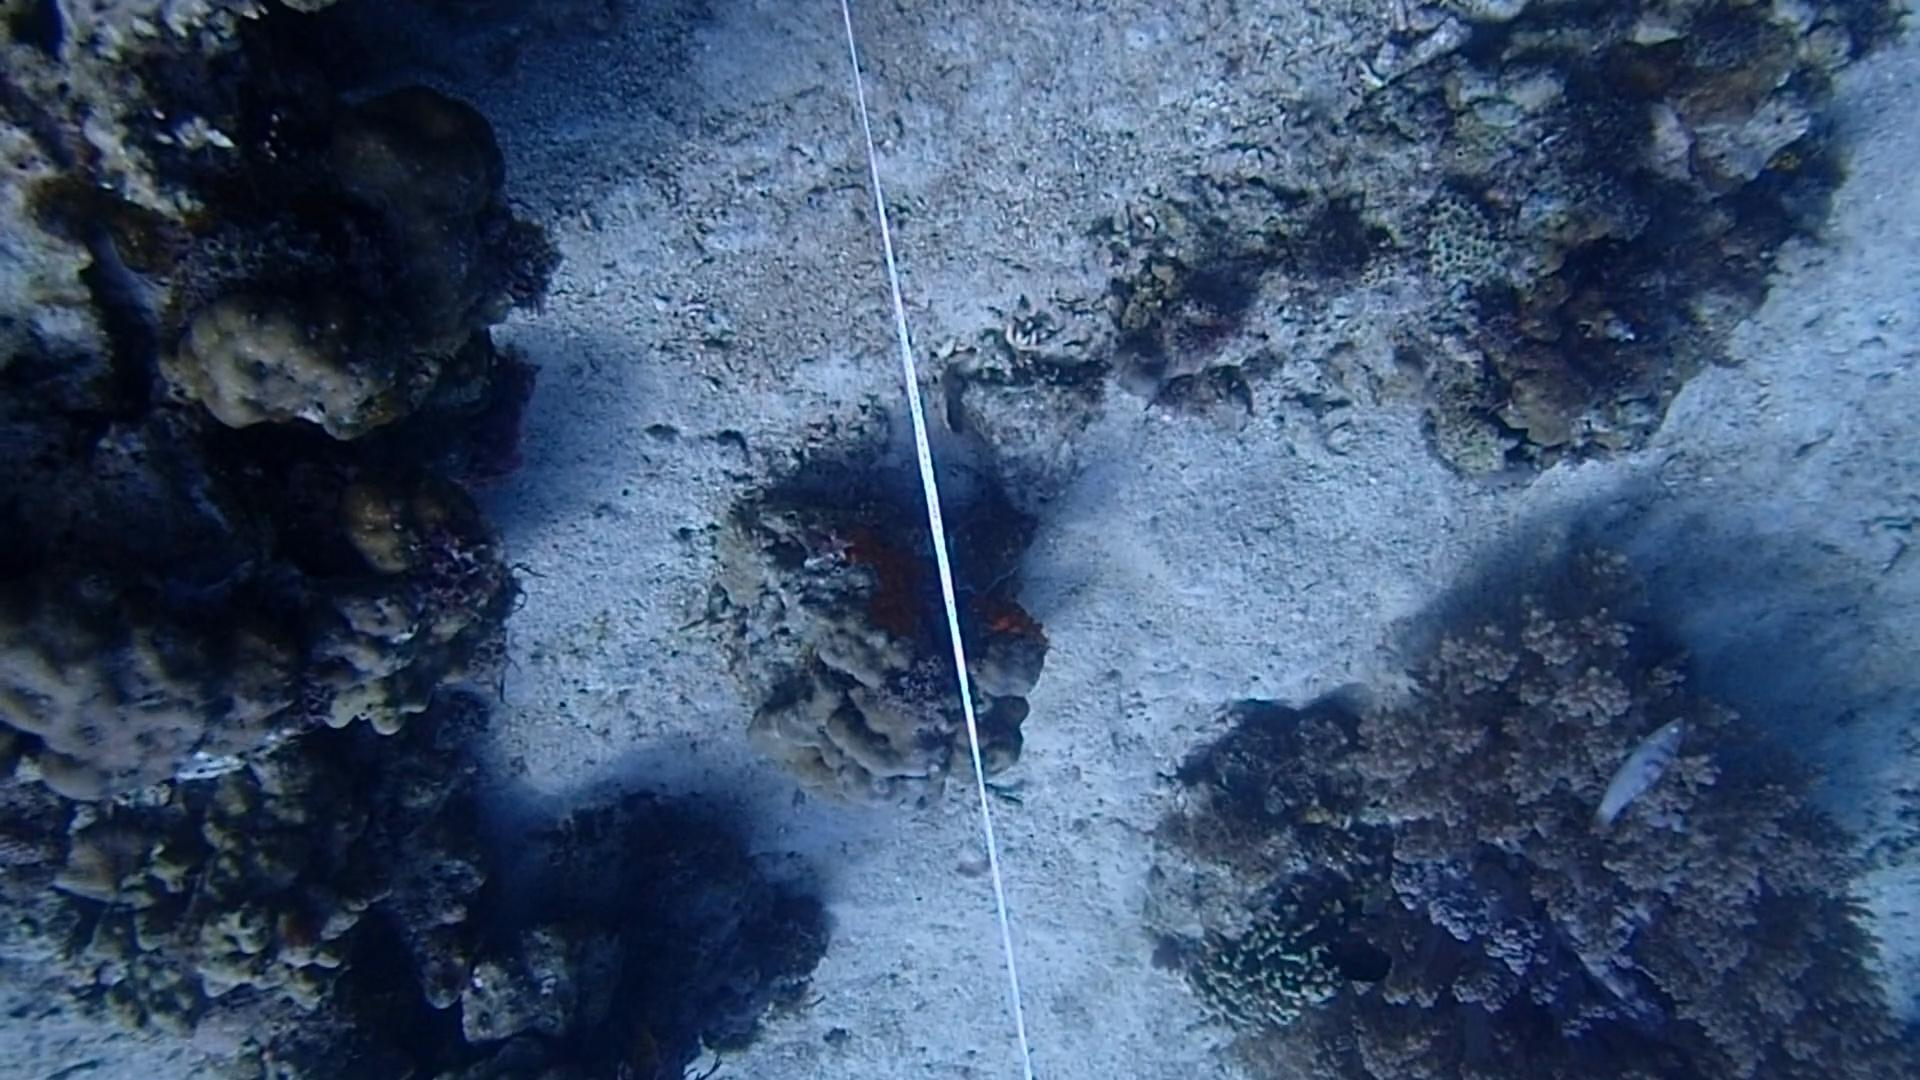Dark Fish: (1315, 930, 1411, 998)
Light Fish w Back Stripes: (1577, 723, 1692, 847)
